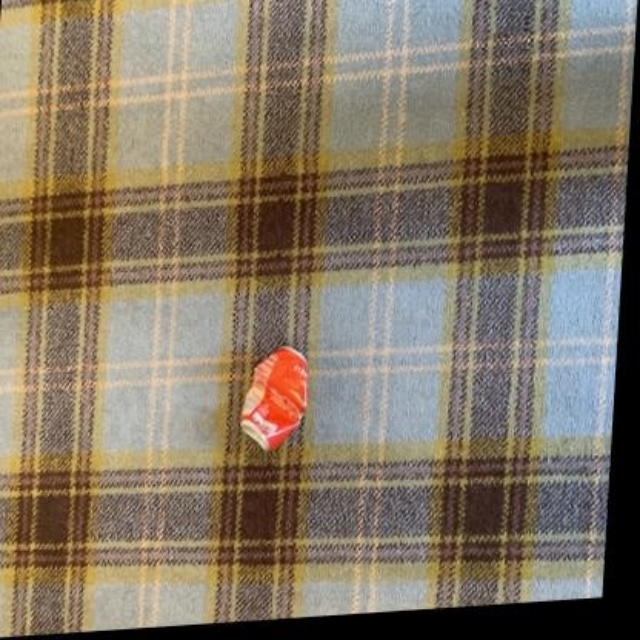trash: (240, 346, 306, 451)
